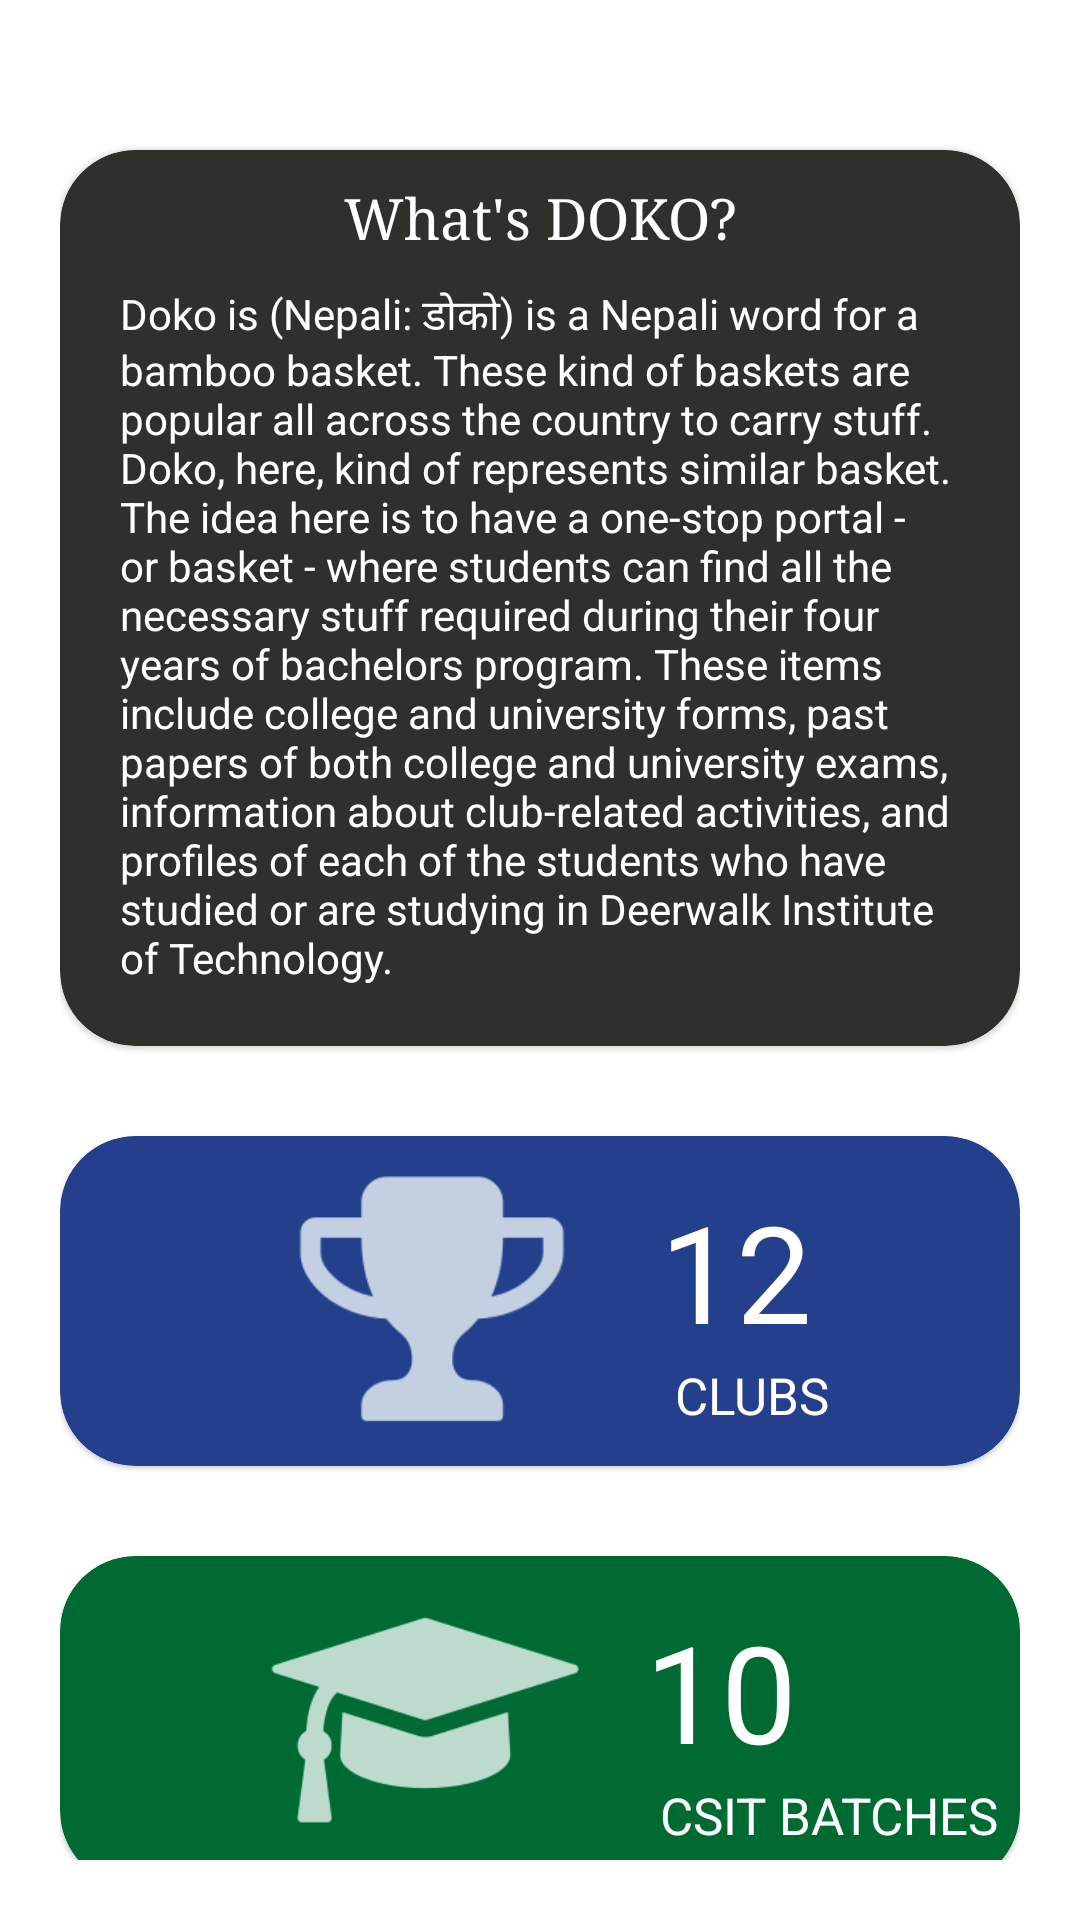

Icon bounding boxes for this 1080×1920 phone screenshot, format (x1, y1, x2, y2):
trophy: (299, 1176, 564, 1422)
